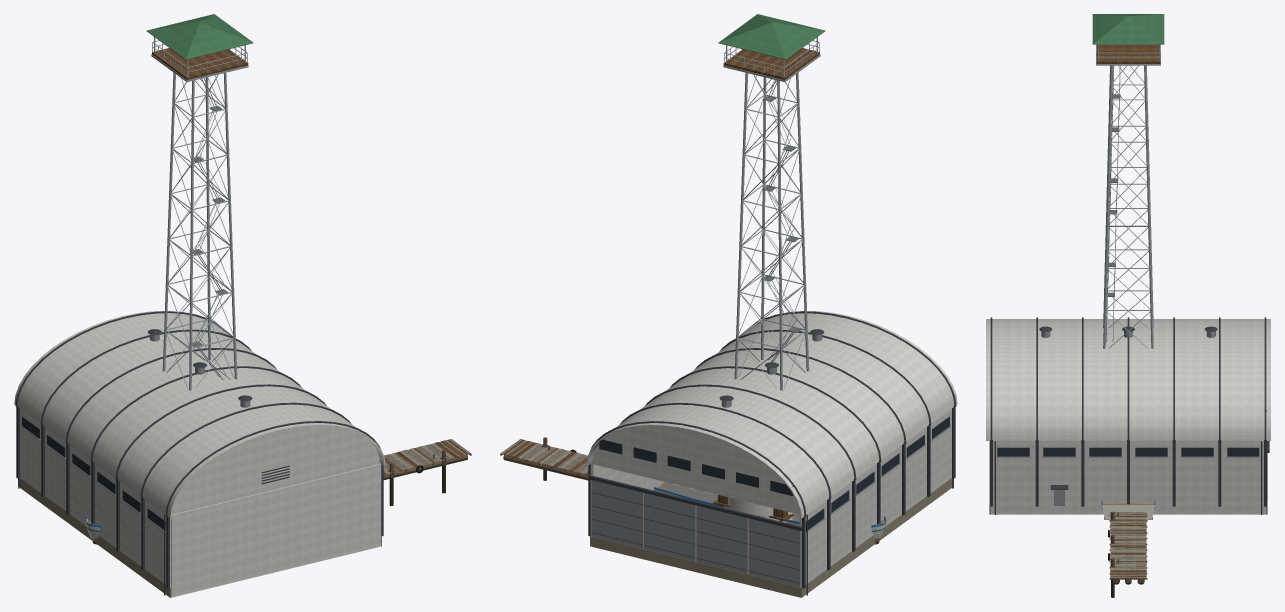
The model's file is props_amazon.glb.
The picture shows the model from 3 angles, left to right: view 1: azimuth 30°, elevation 25°; view 2: azimuth 150°, elevation 25°; view 3: azimuth 270°, elevation 25°; orthographic projection. The views are drawn at different scales.
Visible parts, largest first — view 1: hangar_a__b_corr_white, canopy_tower__f_vc, hangar_a__f_vc, canopy_tower__b_corr_green, canopy_tower__b_rawplank, hangar_a__b_concrete, dock_float__b_greyplank; view 2: hangar_a__b_corr_white, hangar_a__f_vc, canopy_tower__f_vc, hangar_a__b_concrete, canopy_tower__b_corr_green, canopy_tower__b_rawplank, dock_float__b_greyplank, river_boat__f_vc, tank_a__f_vc; view 3: hangar_a__b_corr_white, hangar_a__f_vc, canopy_tower__f_vc, canopy_tower__b_corr_green, dock_float__b_greyplank, canopy_tower__b_rawplank, dock_float__b_rawplank, river_boat__f_vc.
Boxes of the visible parts, <box> form: hangar_a__b_corr_white: <box>14,311,385,597</box>; canopy_tower__f_vc: <box>151,37,248,390</box>; hangar_a__f_vc: <box>15,311,383,595</box>; canopy_tower__b_corr_green: <box>146,14,253,59</box>; canopy_tower__b_rawplank: <box>152,48,248,80</box>; hangar_a__b_concrete: <box>18,478,381,597</box>; dock_float__b_greyplank: <box>383,439,471,474</box>; hangar_a__b_corr_white: <box>586,311,957,587</box>; hangar_a__f_vc: <box>588,311,956,595</box>; canopy_tower__f_vc: <box>723,37,820,390</box>; hangar_a__b_concrete: <box>590,478,952,597</box>; canopy_tower__b_corr_green: <box>718,14,825,59</box>; canopy_tower__b_rawplank: <box>723,48,819,80</box>; dock_float__b_greyplank: <box>500,439,588,475</box>; river_boat__f_vc: <box>654,482,886,544</box>; tank_a__f_vc: <box>724,497,792,524</box>; hangar_a__b_corr_white: <box>986,319,1270,514</box>; hangar_a__f_vc: <box>990,317,1269,514</box>; canopy_tower__f_vc: <box>1096,44,1160,348</box>; canopy_tower__b_corr_green: <box>1092,14,1164,44</box>; dock_float__b_greyplank: <box>1110,512,1146,578</box>; canopy_tower__b_rawplank: <box>1096,44,1160,63</box>; dock_float__b_rawplank: <box>1109,512,1147,579</box>; river_boat__f_vc: <box>1101,501,1155,520</box>.
Bounding box in the file's own units: 43.01 × 57.66 × 31.
11 materials, 10 textured.
